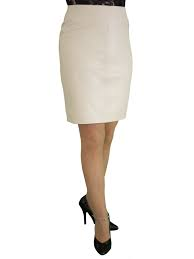C_skirt: (51, 3, 135, 122)
